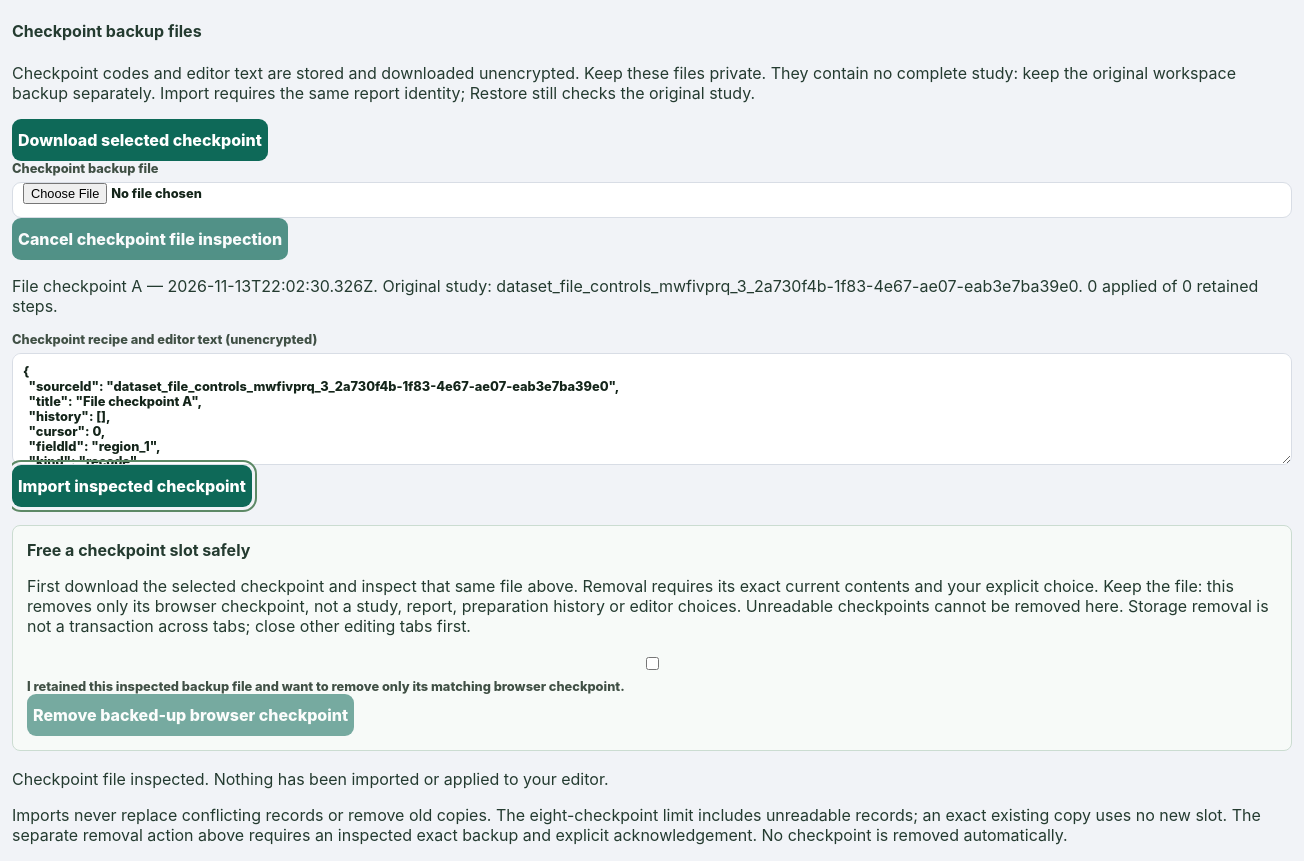
refuses conflicting content after inspection and keeps the existing checkpoint
The image size is (1304, 861).
Earlier steps of the test are not shown.
Click the button "Import inspected checkpoint": point(132, 486) [12,464,252,506]
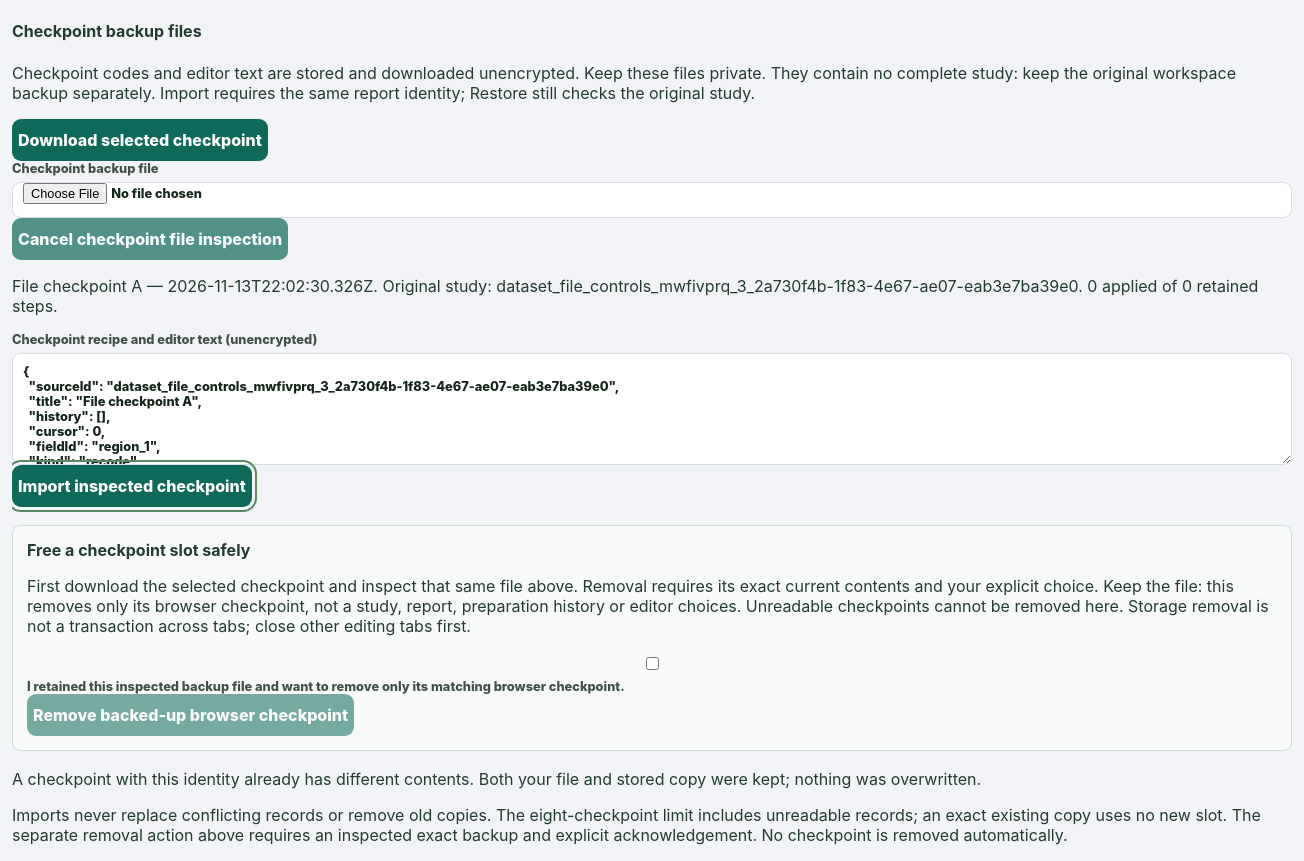
Now the text "different contents" is shown, box [12,768,981,788]
